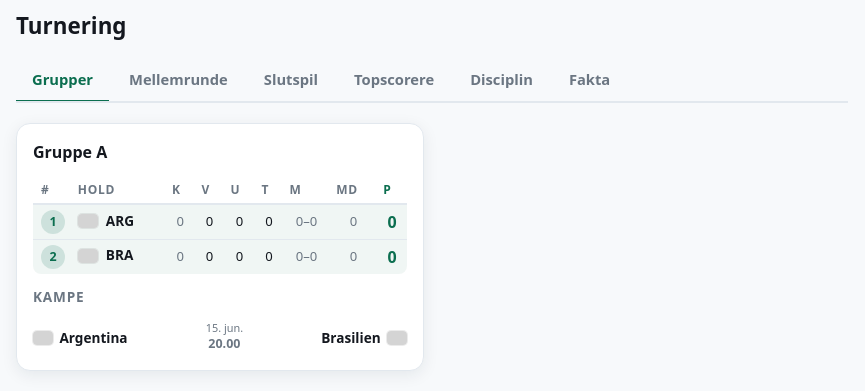
Test: TournamentPage – Mellemrunde-fane › viser tom-tilstand når ingen r32-kampe
Click the tab "Mellemrunde": (178, 81) [113,59,244,103]
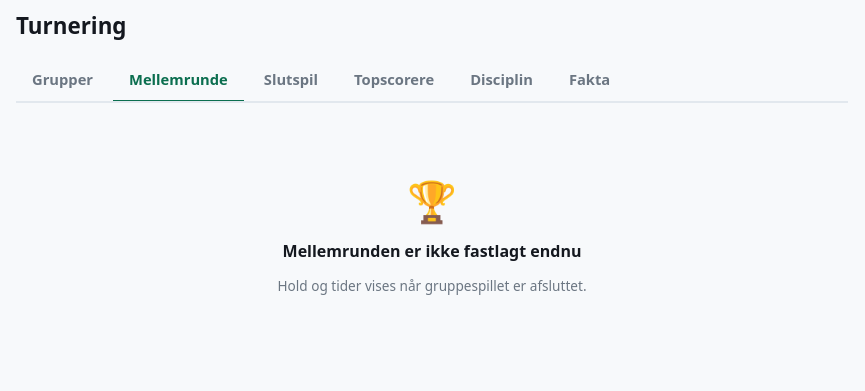
Now the text "Mellemrunden er ikke fastlagt endnu" is shown, box [282,240,581,262]
